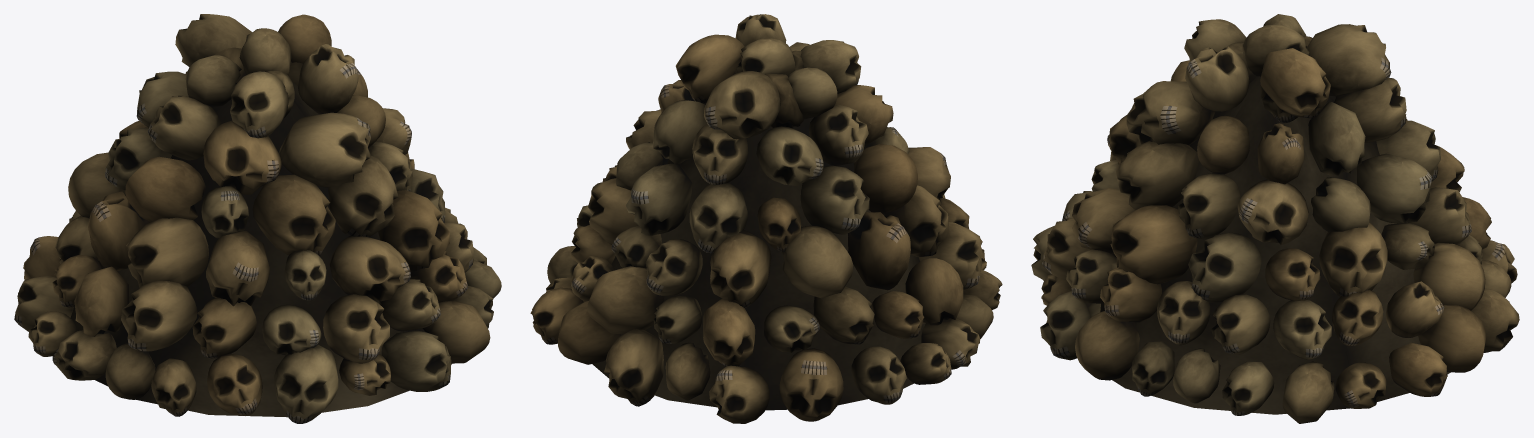
Rendered from mm6_deco_skullpile.glb.
3 views of the same model, side by side, from view 1: azimuth 30°, elevation 25°; view 2: azimuth 150°, elevation 25°; view 3: azimuth 270°, elevation 25° (orthographic). The views are drawn at different scales.
Visible parts, largest first — view 1: SkullPile; view 2: SkullPile; view 3: SkullPile.
Boxes of the visible parts, bbox=[...] form: SkullPile: bbox=[14, 14, 501, 423]; SkullPile: bbox=[530, 14, 1002, 423]; SkullPile: bbox=[1031, 14, 1519, 423].
Size of the model in its own units: 2.78 by 1.93 by 2.75.
Materials: 2 (2 with a texture image).
